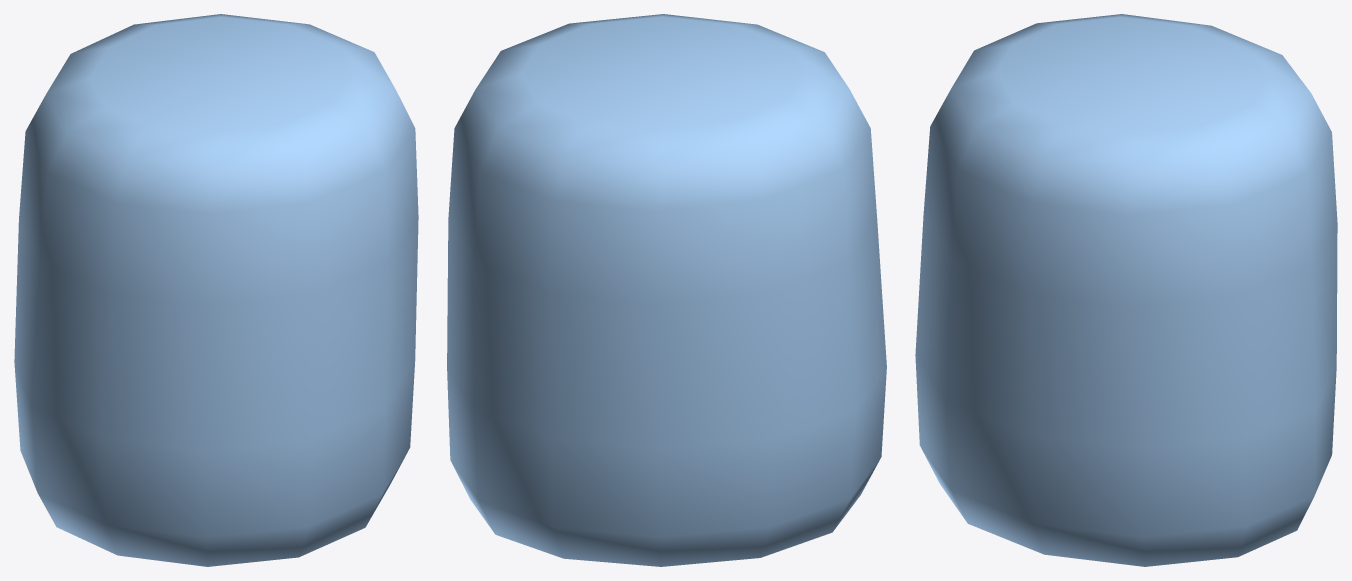
Rendered from marshmallow_005.glb.
The picture shows the model from 3 angles, left to right: view 1: azimuth 30°, elevation 25°; view 2: azimuth 150°, elevation 25°; view 3: azimuth 270°, elevation 25°; orthographic projection. The views are drawn at different scales.
Visible parts, largest first — view 1: marshmallow_005; view 2: marshmallow_005; view 3: marshmallow_005.
Boxes of the visible parts, x1,y1,x2,y2 form: marshmallow_005: (14,14,418,566); marshmallow_005: (447,14,886,566); marshmallow_005: (915,14,1337,566).
Size of the model in its own units: 1.1 by 1.22 by 1.08.
1 material, 1 textured.
